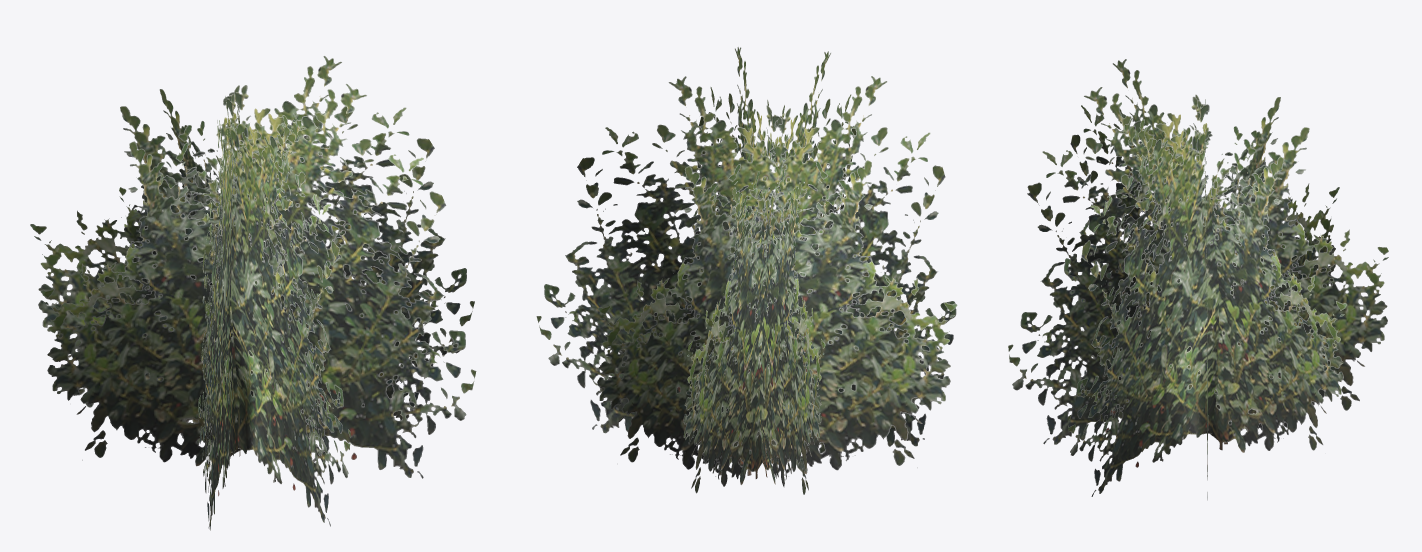
File: SM_Generic_Plant_02.fbx
3 views of the same model, side by side, from view 1: azimuth 30°, elevation 25°; view 2: azimuth 150°, elevation 25°; view 3: azimuth 270°, elevation 25° (orthographic). The views are drawn at different scales.
Parts seen in each view (by area): view 1: SM_Generic_Plant_02_LOD0; view 2: SM_Generic_Plant_02_LOD0; view 3: SM_Generic_Plant_02_LOD0.
Boxes of the visible parts, x1=… form: SM_Generic_Plant_02_LOD0: x1=30, y1=56, x2=476, y2=530; SM_Generic_Plant_02_LOD0: x1=536, y1=47, x2=957, y2=494; SM_Generic_Plant_02_LOD0: x1=1008, y1=59, x2=1388, y2=500.
Size of what is drawn, in the model's own units: 0.8071 by 0.6754 by 0.6625.
